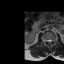CCS_normal: (49, 38, 50, 45)
LFS_stenosis: (51, 38, 53, 43)
LLS_normal: (50, 38, 51, 44)
RFS_normal: (45, 38, 47, 43)
RLS_normal: (47, 38, 49, 43)
